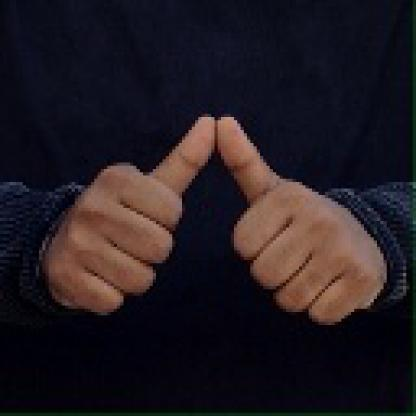A: (41, 115, 383, 322)
